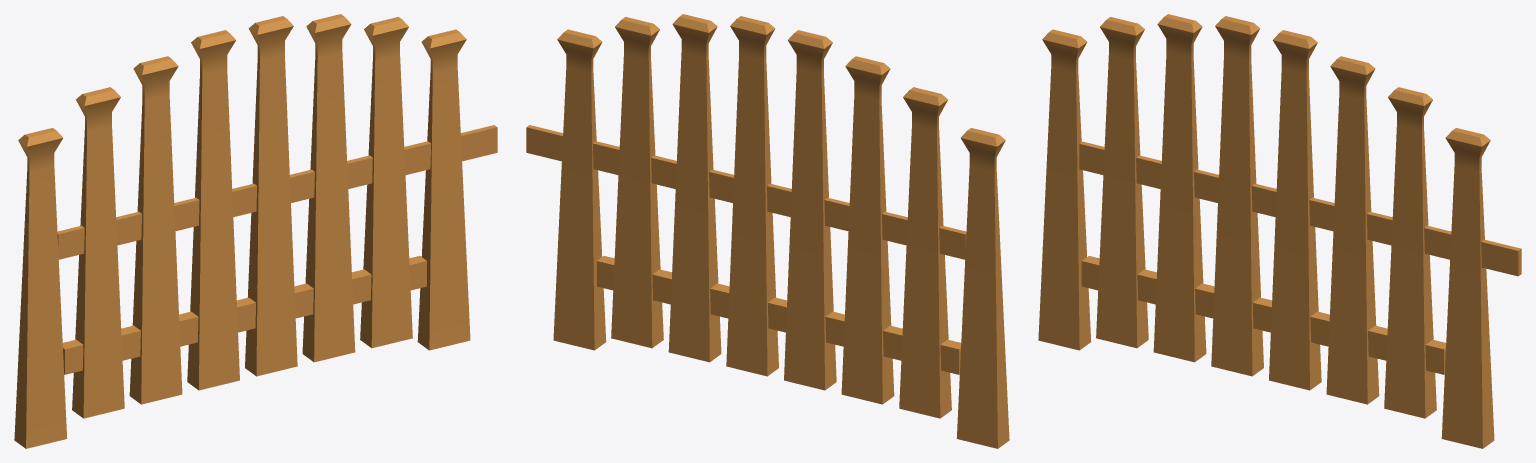
The model's file is Fence_4.fbx.
3 views of the same model, side by side, from view 1: azimuth 30°, elevation 25°; view 2: azimuth 150°, elevation 25°; view 3: azimuth 330°, elevation 25° (orthographic).
Visible parts, largest first — view 1: Fence_5; view 2: Fence_5; view 3: Fence_5.
Boxes of the visible parts, left/top/right/bottom form: Fence_5: left=14, top=14, right=497, bottom=448; Fence_5: left=526, top=14, right=1009, bottom=448; Fence_5: left=1038, top=14, right=1521, bottom=448.
Size of the model in its own units: 119 by 86.93 by 5.04.
